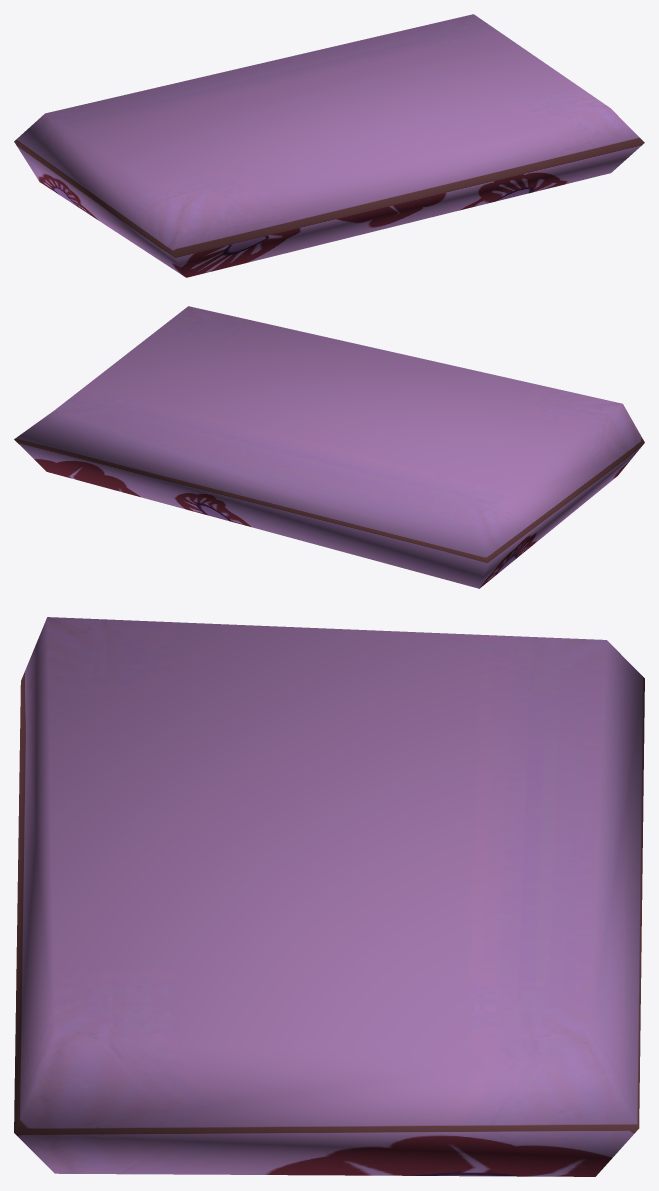
File: nt_2020_pillow_01_LOD3.obj
3 renders of one model, top to bottom at view 1: azimuth 30°, elevation 25°; view 2: azimuth 150°, elevation 25°; view 3: azimuth 270°, elevation 25°, orthographic. The views are drawn at different scales.
Visible parts, largest first — view 1: mtl_nt_2020_pillow_01; view 2: mtl_nt_2020_pillow_01; view 3: mtl_nt_2020_pillow_01.
Part boxes in pixels (left/top/right/bottom): mtl_nt_2020_pillow_01: left=14, top=14, right=644, bottom=277; mtl_nt_2020_pillow_01: left=14, top=306, right=644, bottom=588; mtl_nt_2020_pillow_01: left=14, top=617, right=644, bottom=1176.
Size of the model in its own units: 87.29 by 13.91 by 51.02.
